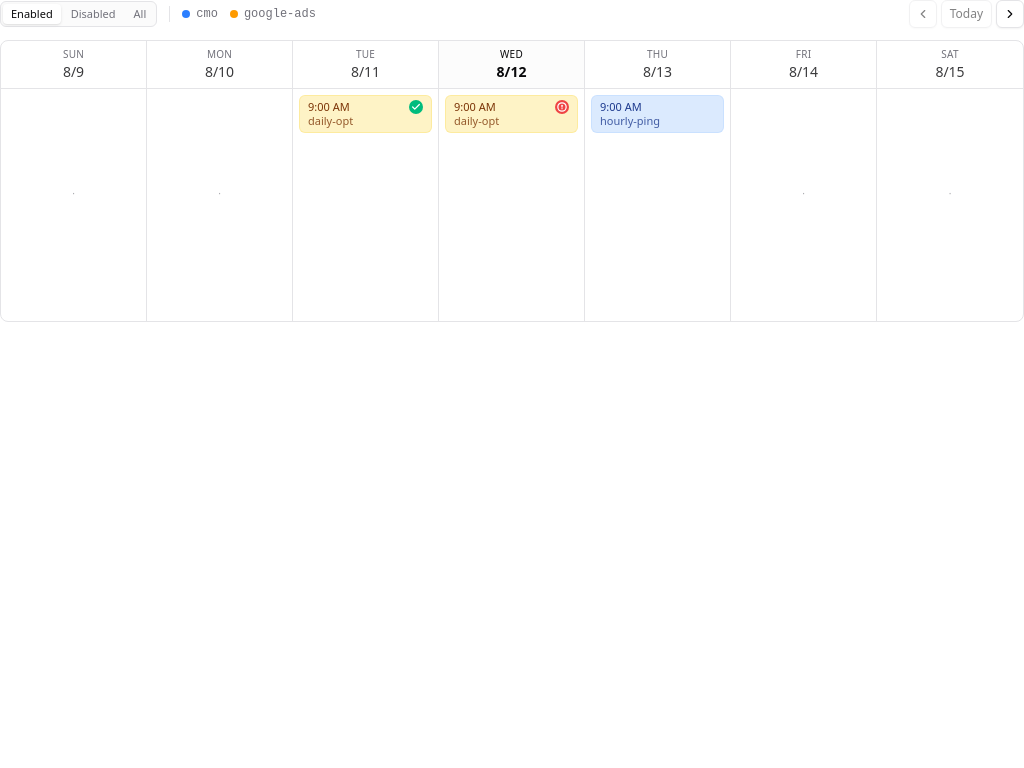
Test case: CronCalendar — occurrence detail dialog › shows raw status badge for a past occurrence with a matching run (exact tick)
Click the button "9:00 AM daily-opt" below "8/11": (366, 114) x1=299 y1=95 x2=432 y2=133
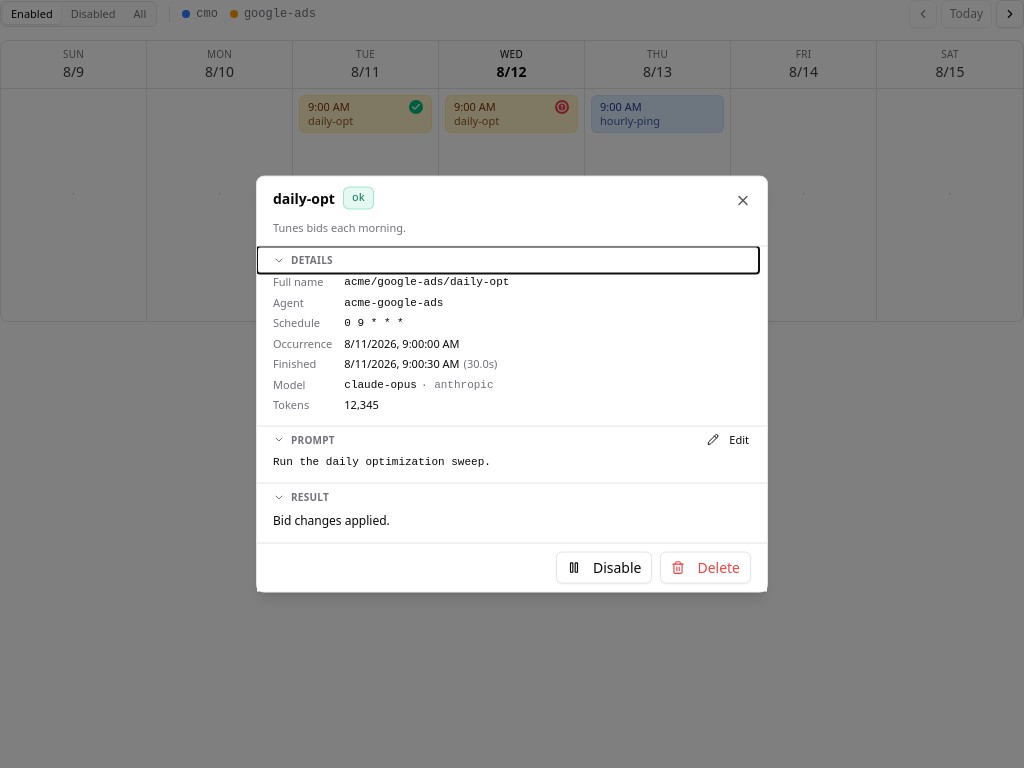
Result: the text "ok" is shown at x1=343 y1=187 x2=374 y2=209
Result: the text "Bid changes applied." is shown at x1=273 y1=512 x2=390 y2=529
Result: the text "12,345" is shown at x1=344 y1=397 x2=379 y2=412
